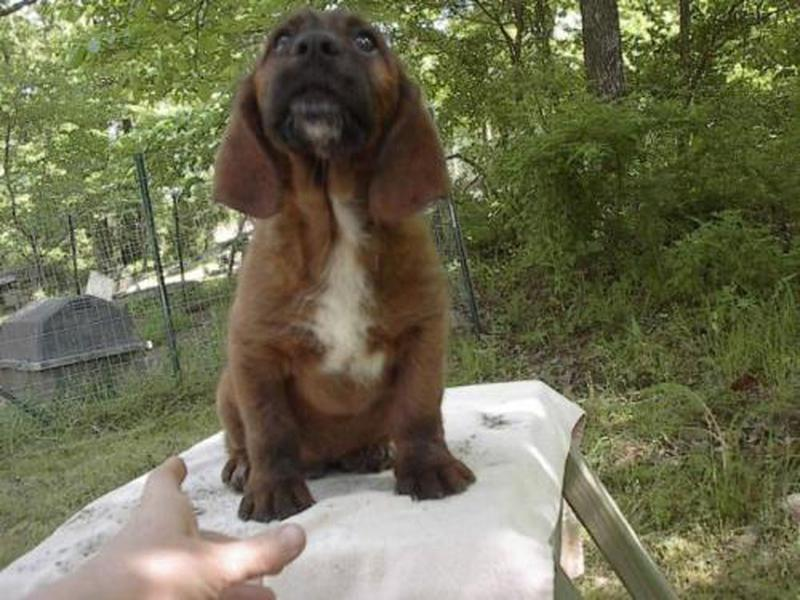dog: (213, 9, 483, 525)
